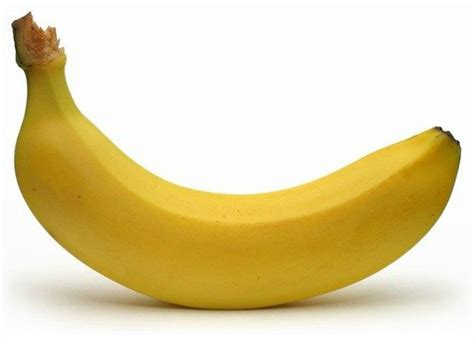banana: (8, 93, 465, 315)
